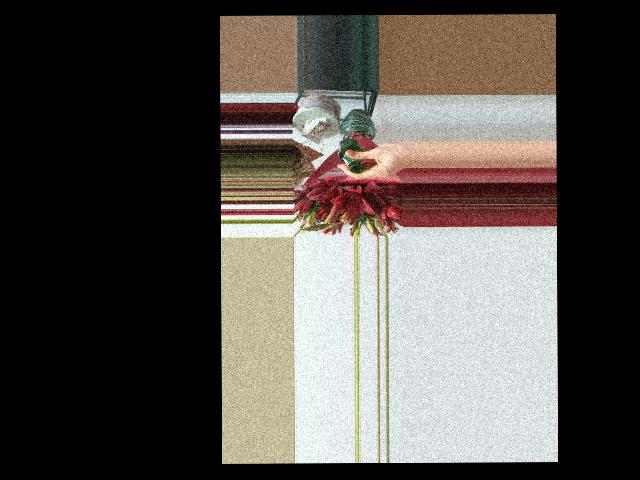beer: (338, 137, 364, 173)
